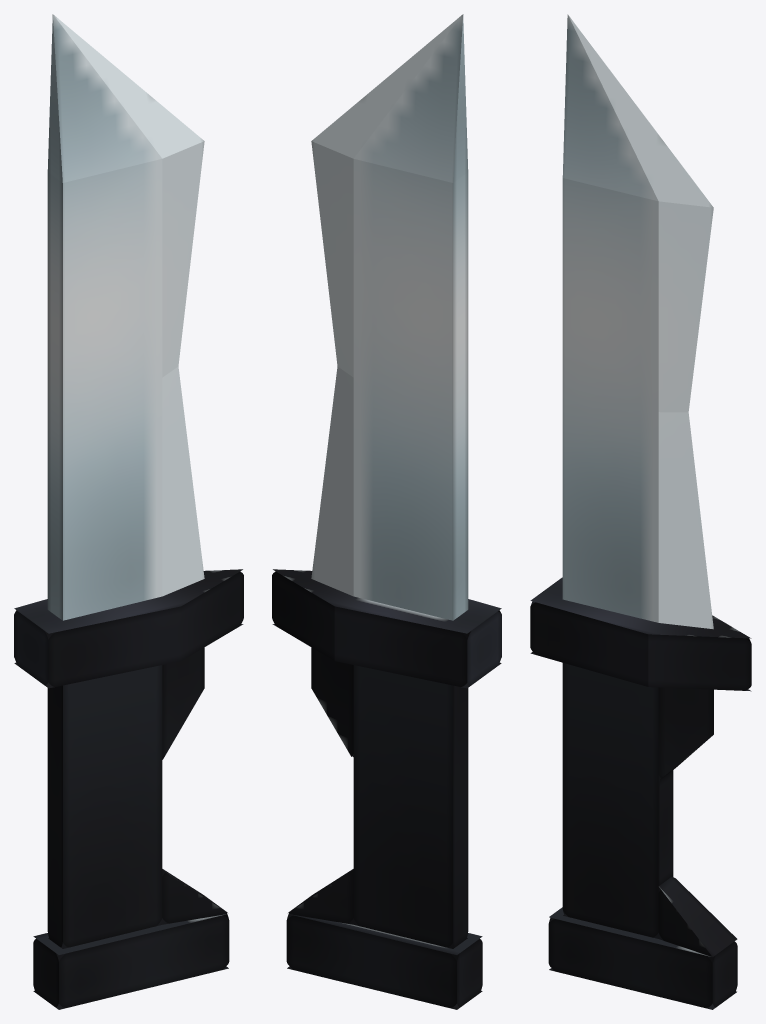
Rendered from knifeModel.fbx.
3 views of the same model, side by side, from view 1: azimuth 30°, elevation 25°; view 2: azimuth 150°, elevation 25°; view 3: azimuth 330°, elevation 25° (orthographic). The views are drawn at different scales.
Visible parts, largest first — view 1: knife; view 2: knife; view 3: knife.
Boxes of the visible parts, x1,y1,x2,y2 form: knife: (14,14,243,1009); knife: (272,14,501,1009); knife: (530,14,751,1009).
Bounding box in the file's own units: 25.4 × 112 × 9.27.
1 material, 1 textured.
